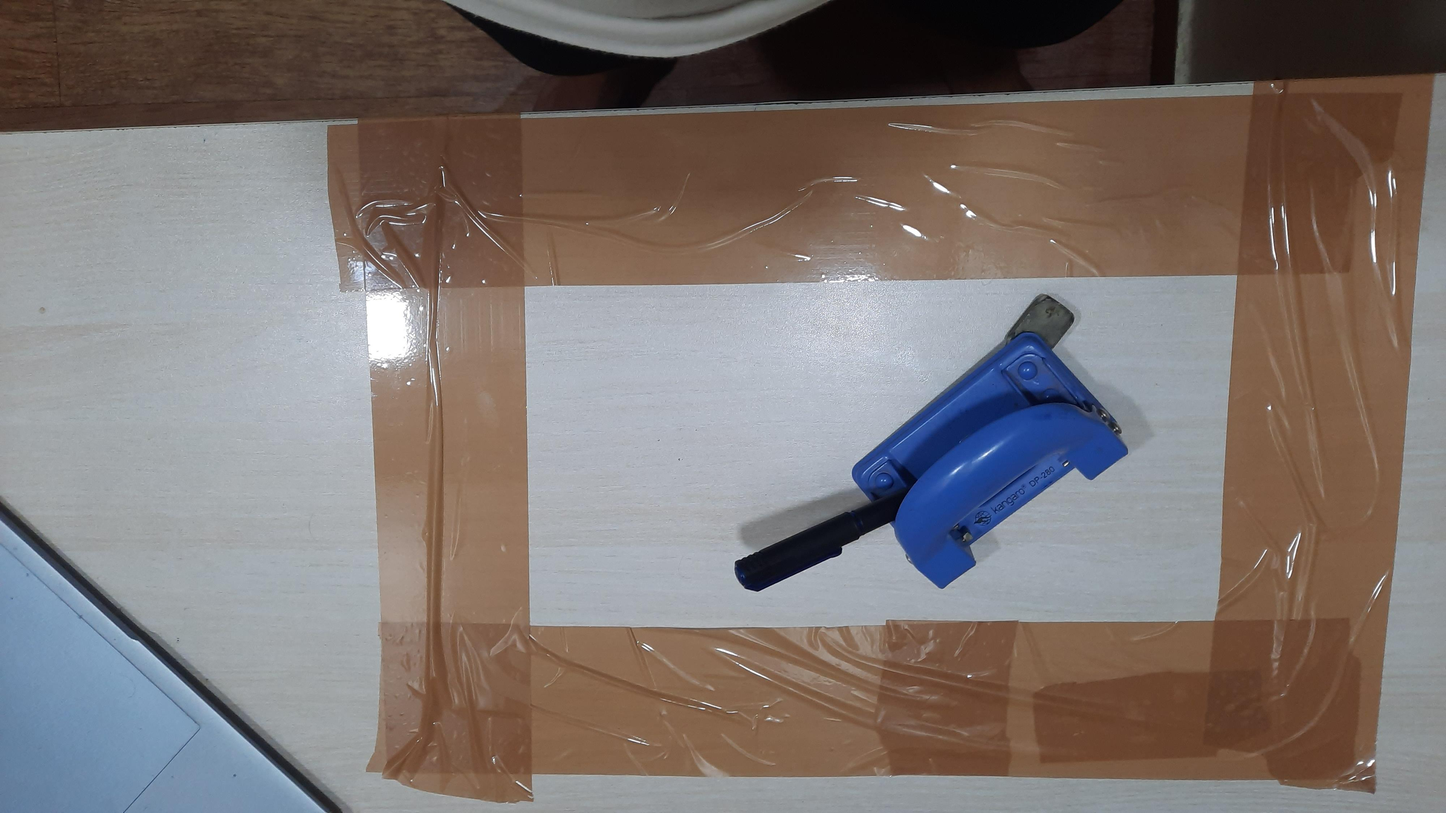Eraser: (1002, 293, 1075, 363)
Pen: (733, 486, 907, 592)
Punch: (851, 331, 1129, 590)
